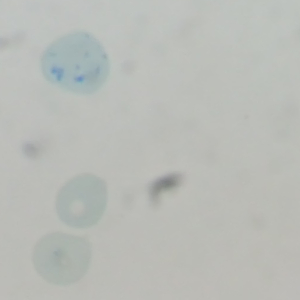aggregate reticulocyte: (39, 31, 111, 96)
erythrocyte: (29, 229, 93, 287), (53, 172, 110, 230)
